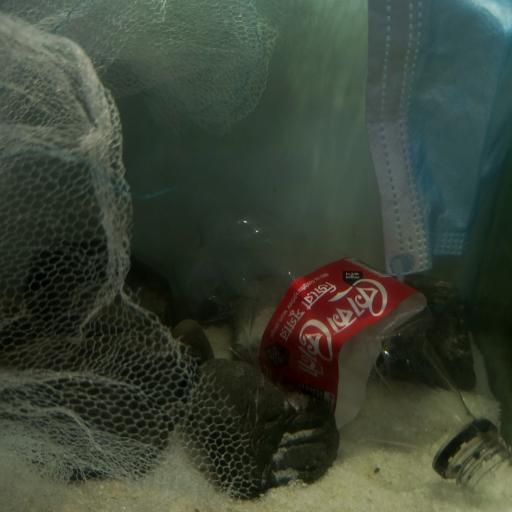mask: (361, 0, 512, 271)
net: (0, 0, 278, 504)
plastic_bottle: (181, 210, 512, 490)
